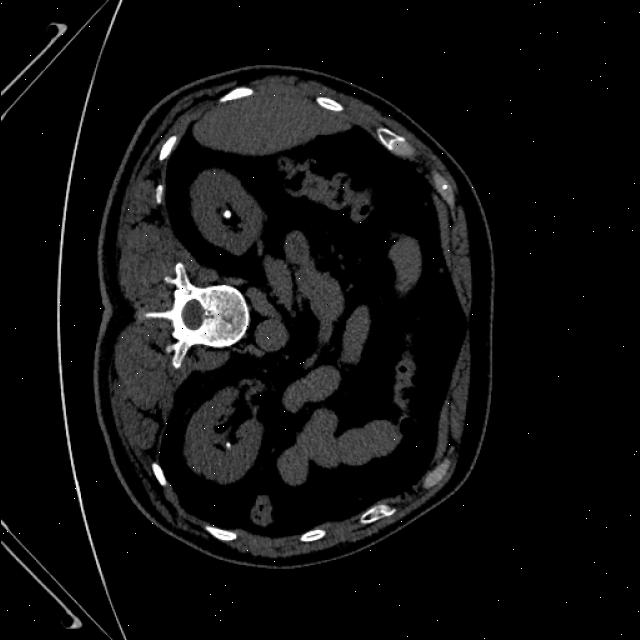kidneystone: (222, 210, 231, 219)
